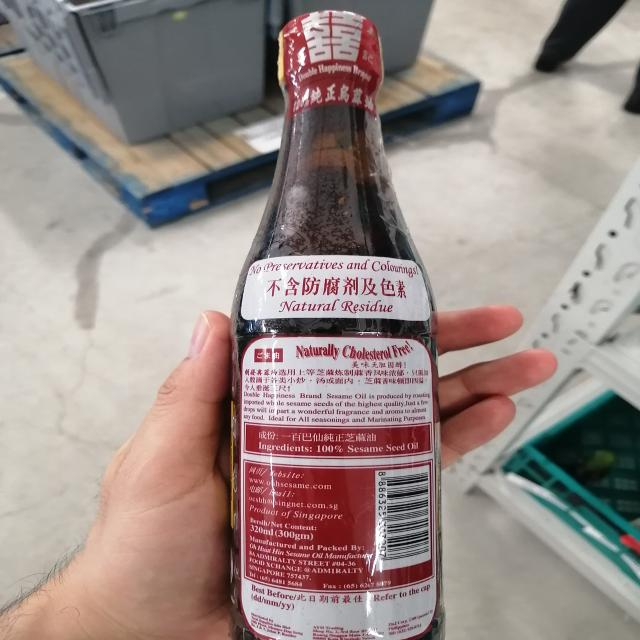object_name: (236, 18, 441, 640)
